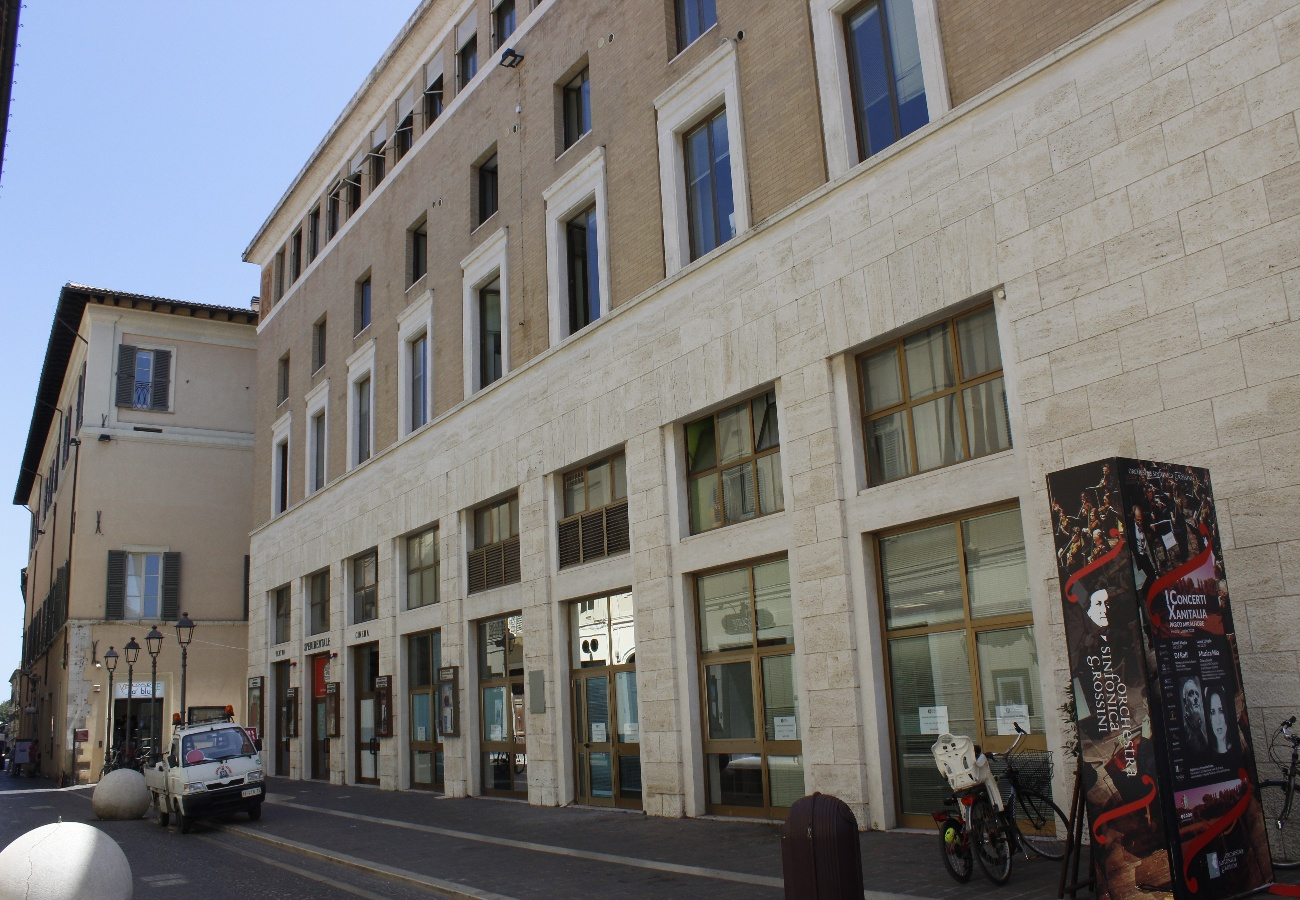Teatro Sperimentale: (249, 4, 1289, 812)
